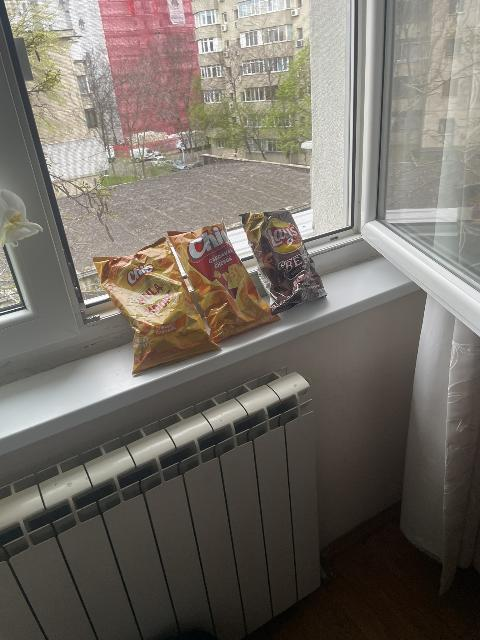Chio Cascaval 125g: (169, 221, 280, 344)
Chio Hula Hoops Cheese 70g: (92, 237, 220, 372)
Lays Beef Grilled Ribs 125g: (244, 208, 326, 312)
